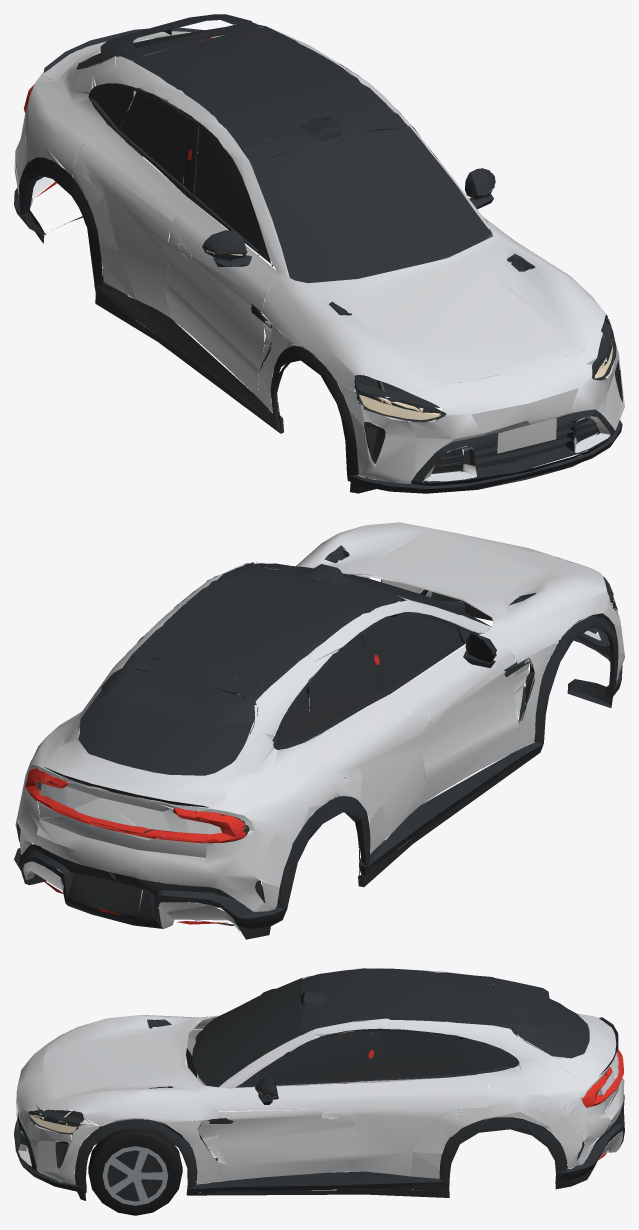
File: ev-suv.glb
The picture shows the model from 3 angles, top to bottom: view 1: azimuth 30°, elevation 25°; view 2: azimuth 150°, elevation 25°; view 3: azimuth 270°, elevation 25°; orthographic projection. The views are drawn at different scales.
Visible parts, largest first — view 1: Car body, Car trim, Car plates, Car headlamps; view 2: Car body, Car trim, Car tail lamps; view 3: Car body, Car trim, Wheel tyre, Wheel rim, Wheel well, Car tail lamps, Car headlamps.
Part boxes in pixels (x1,y1,x2,y2): Car body: (14, 25, 624, 483); Car trim: (14, 14, 622, 493); Car plates: (497, 418, 556, 453); Car headlamps: (206, 183, 612, 419); Car body: (15, 522, 624, 931); Car trim: (14, 545, 622, 939); Car tail lamps: (25, 654, 379, 924); Car body: (16, 968, 624, 1184); Car trim: (14, 968, 624, 1200); Wheel tyre: (88, 1128, 182, 1215); Wheel rim: (102, 1146, 168, 1205); Wheel well: (106, 1146, 162, 1201); Car tail lamps: (368, 1049, 623, 1159); Car headlamps: (30, 1091, 276, 1132).
Size of the model in its own units: 1.99 by 1.61 by 5.
